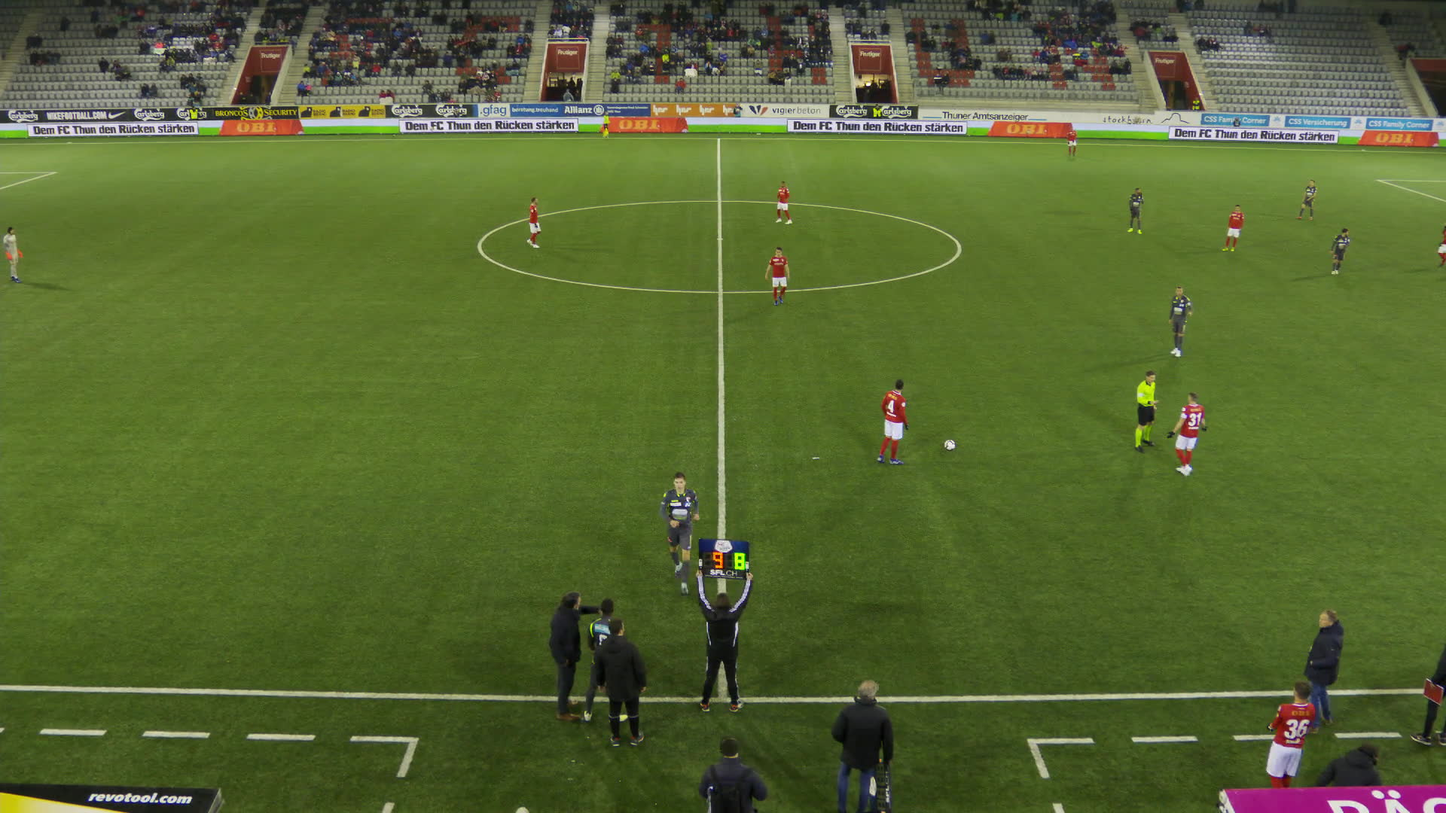ball: (943, 440, 955, 451)
player: (583, 598, 630, 720), (1264, 681, 1316, 787), (661, 472, 700, 589), (1165, 391, 1206, 477), (877, 379, 909, 464), (1167, 286, 1191, 358), (765, 248, 789, 307), (1326, 227, 1349, 276), (5, 227, 24, 283), (1220, 205, 1243, 251), (1294, 180, 1315, 222), (1126, 187, 1144, 234), (526, 196, 541, 248), (776, 181, 792, 224), (1434, 222, 1445, 270), (1066, 127, 1076, 157)
referee: (1133, 370, 1158, 454), (602, 111, 609, 139)
